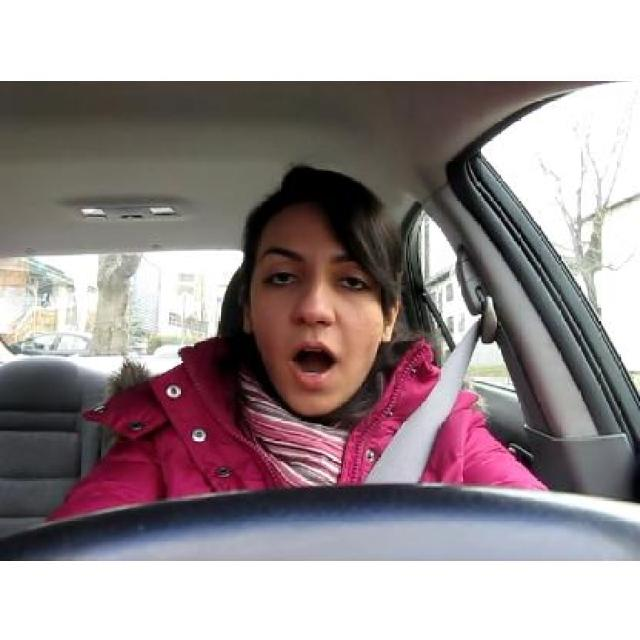inattentif: (243, 167, 397, 418)
